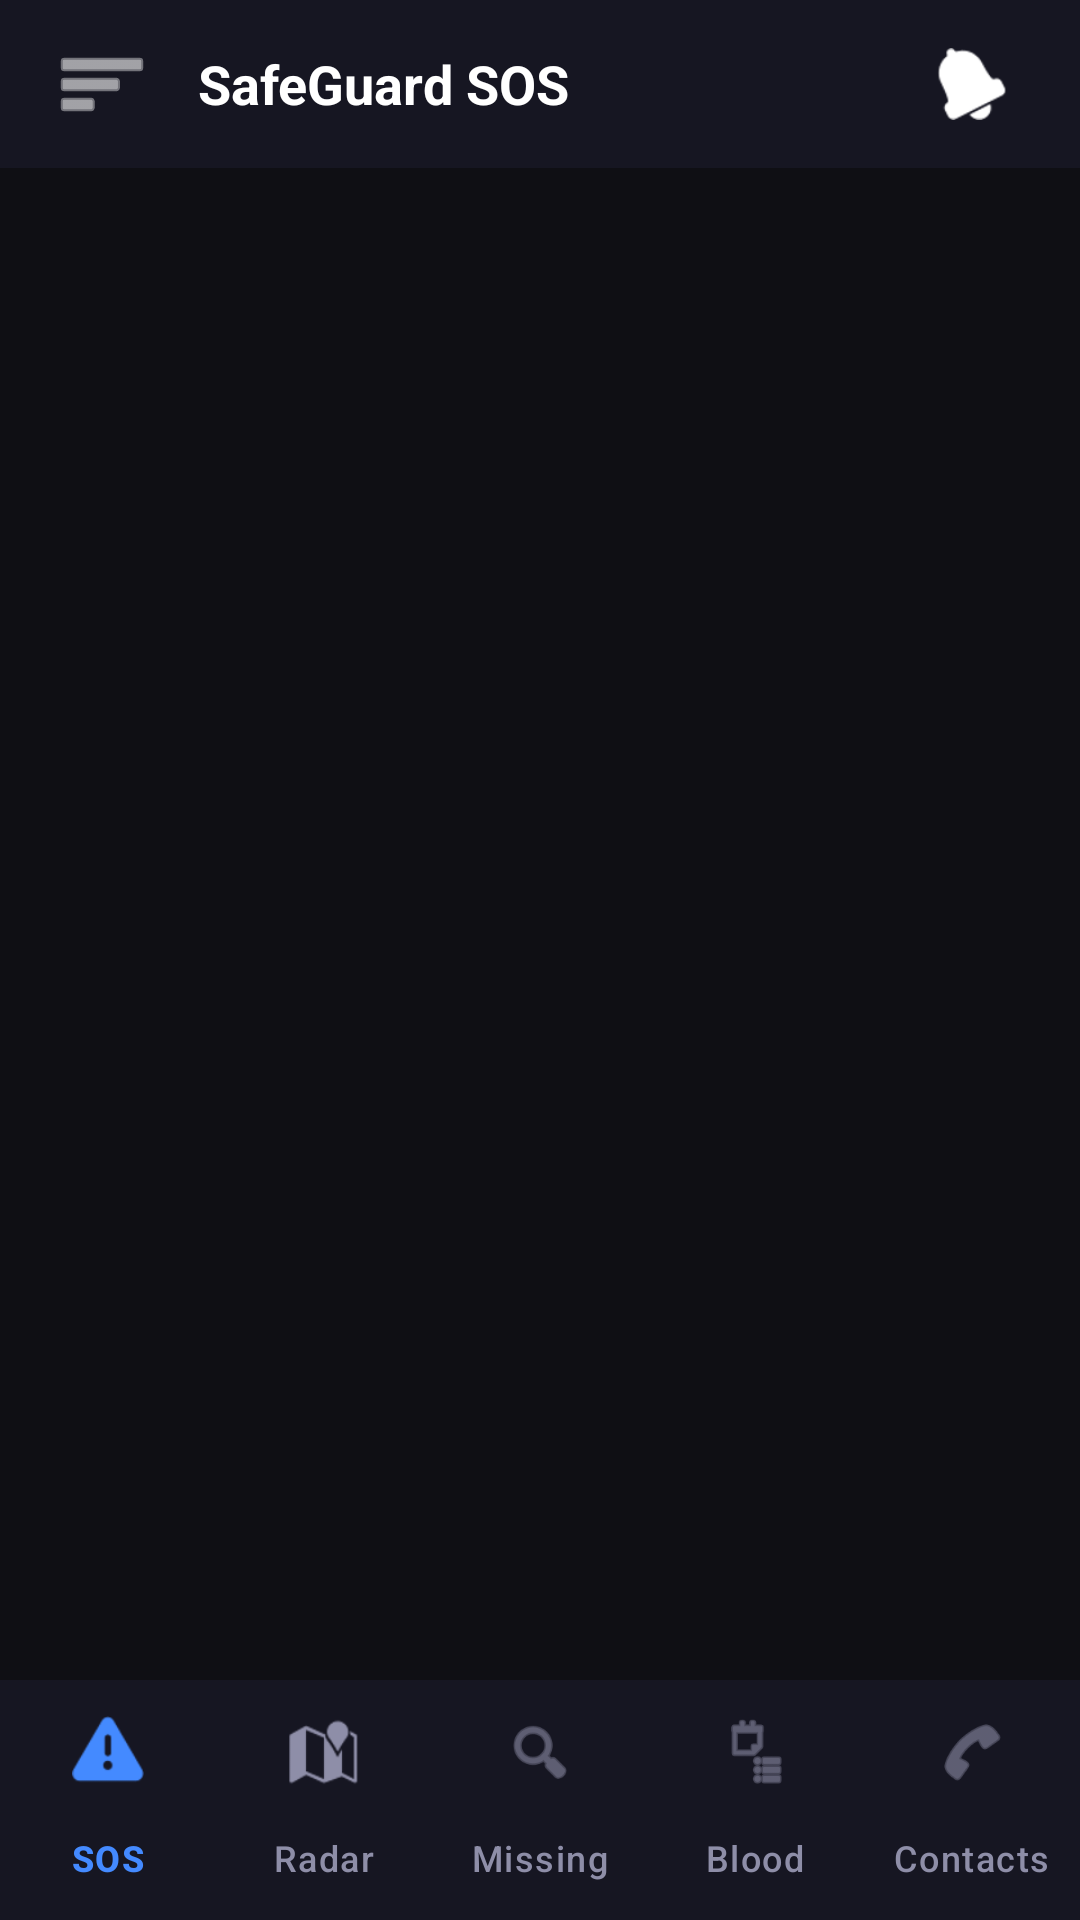

Named icons in this screenshot (1080×1920) and their bounding boxes, (x1, y1, x2, y2):
Notifications: (938, 48, 1006, 120)
